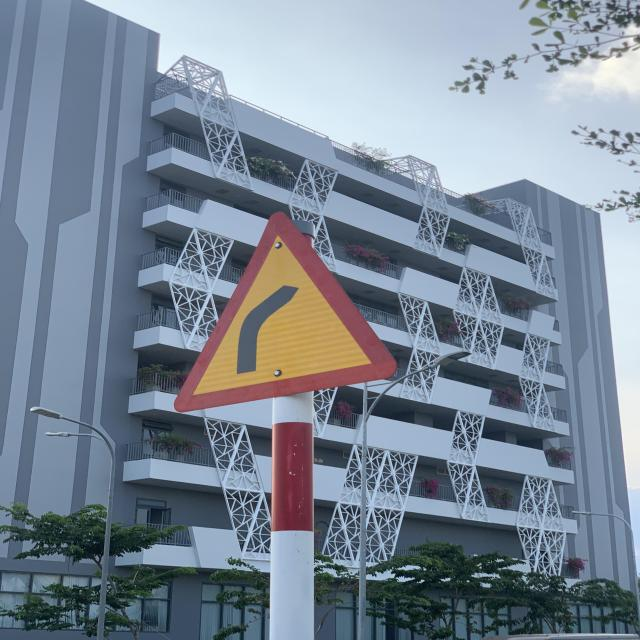Duong_Nguoi_Di_Bo_Cat_Ngang: (178, 212, 392, 420)
